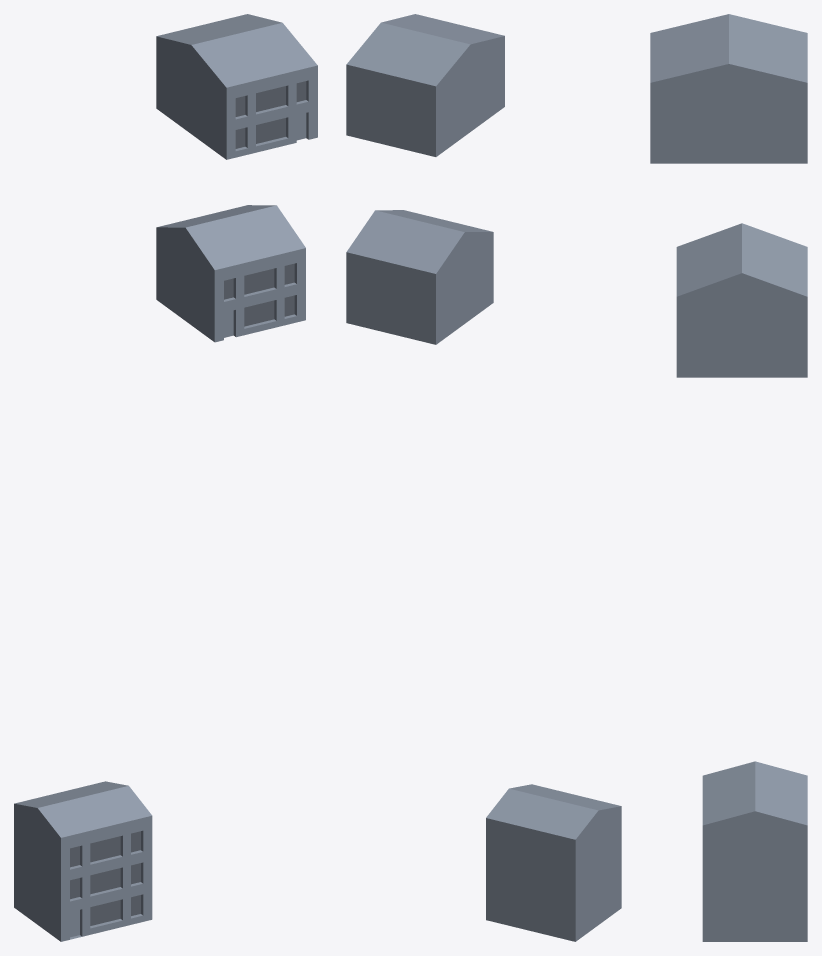
File: BinaGrup3.gltf
3 views of the same model, side by side, from view 1: azimuth 30°, elevation 25°; view 2: azimuth 150°, elevation 25°; view 3: azimuth 270°, elevation 25° (orthographic). The views are drawn at different scales.
Visible parts, largest first — view 1: Building_077.014, Building_074.014, Building_078.014, Building_074.015, Building_078.015, Building_077.015; view 2: Building_074.014, Building_077.014, Building_078.014; view 3: Building_077.014, Building_078.014, Building_074.014.
Boxes of the visible parts, x1=… form: Building_077.014: x1=156, y1=14, x2=317, y2=159; Building_074.014: x1=14, y1=781, x2=152, y2=941; Building_078.014: x1=156, y1=205, x2=305, y2=342; Building_074.015: x1=70, y1=831, x2=140, y2=925; Building_078.015: x1=224, y1=263, x2=294, y2=326; Building_077.015: x1=235, y1=81, x2=306, y2=148; Building_074.014: x1=486, y1=784, x2=621, y2=941; Building_077.014: x1=346, y1=14, x2=504, y2=156; Building_078.014: x1=346, y1=210, x2=493, y2=344; Building_077.014: x1=650, y1=14, x2=807, y2=163; Building_078.014: x1=676, y1=223, x2=807, y2=377; Building_074.014: x1=702, y1=761, x2=807, y2=941.
Bounding box in the file's own units: 0.125 × 0.437 × 0.0652.
